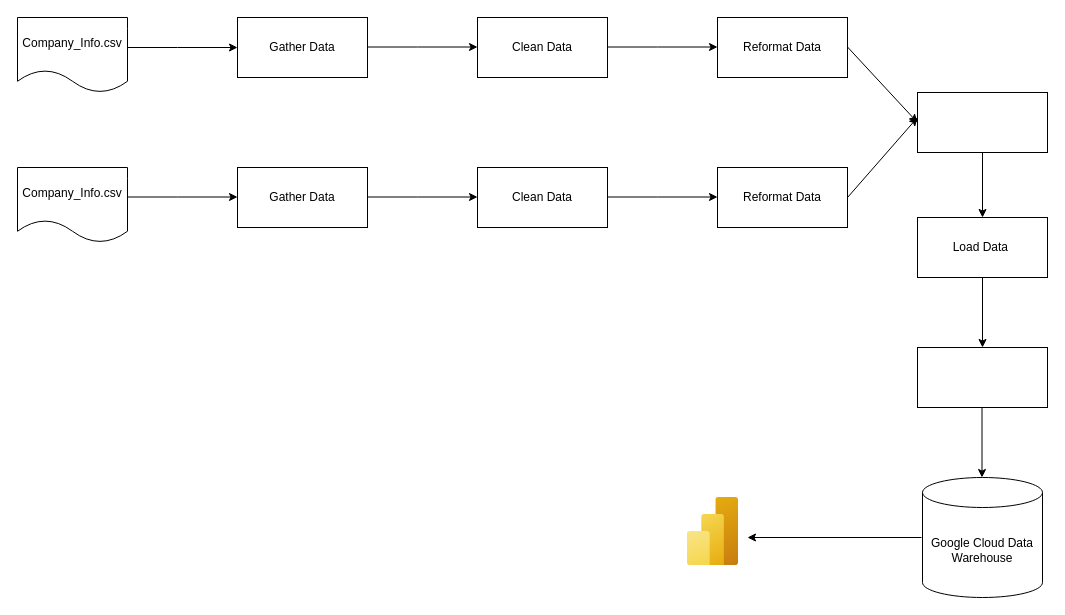
The diagram is 1065 pixels wide and 615 high, and some of its shapes have lost their labels. Here are the shapes that lost their labels. From the top down, the centre of each, then its label:
[982,122]: Consolidate Data
[982,377]: Transform Data
[712,531]: Visualization and Reporting
